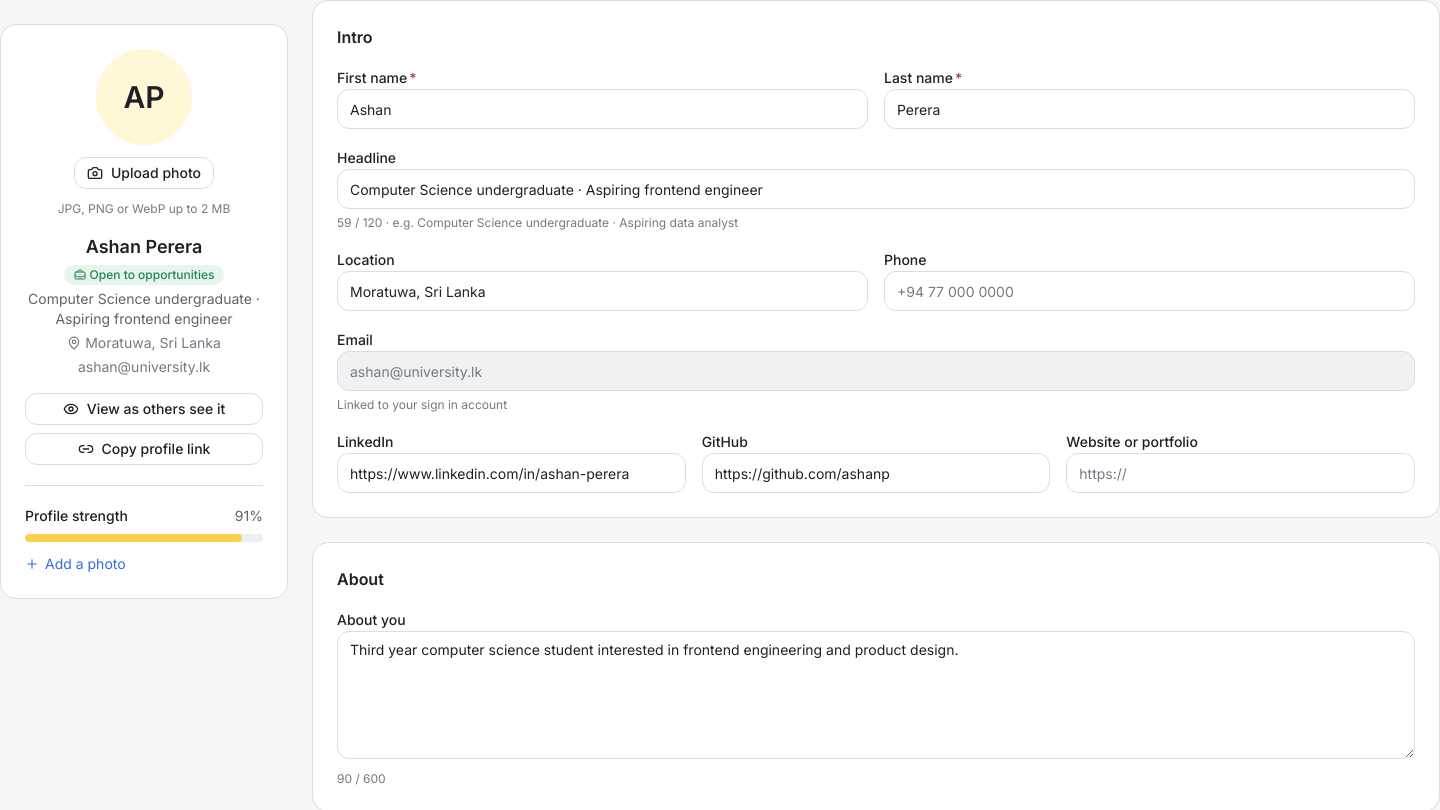
Scenario: StudentProfileForm › shows errors and does not save an invalid form
The image size is (1440, 810).
Clear the field labelled "First name*" at coordinates (602, 109), box [337,89,868,129]
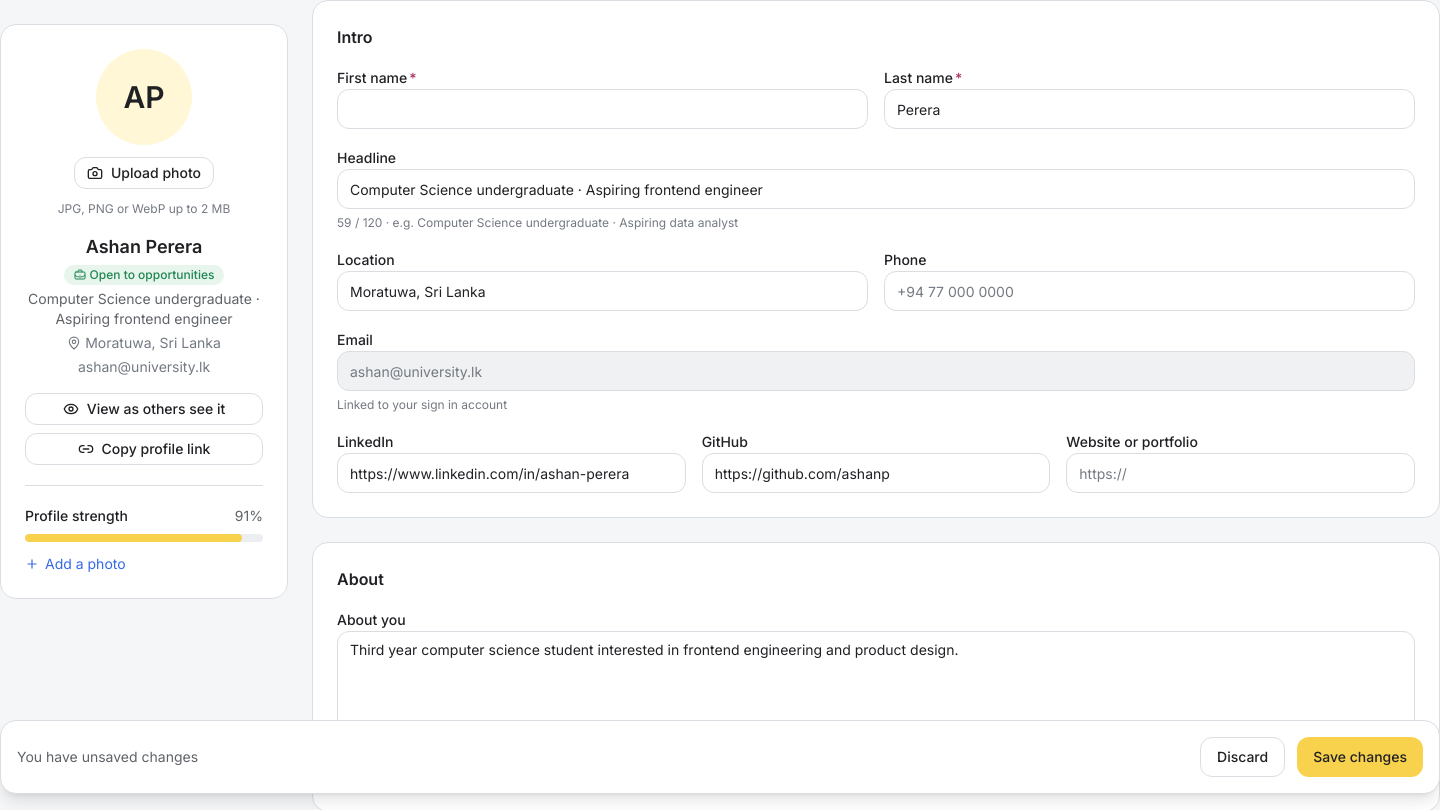
Replace the text in the field labelled "LinkedIn" with "linkedin.com/in/me" at coordinates (511, 473), box [337,453,686,493]
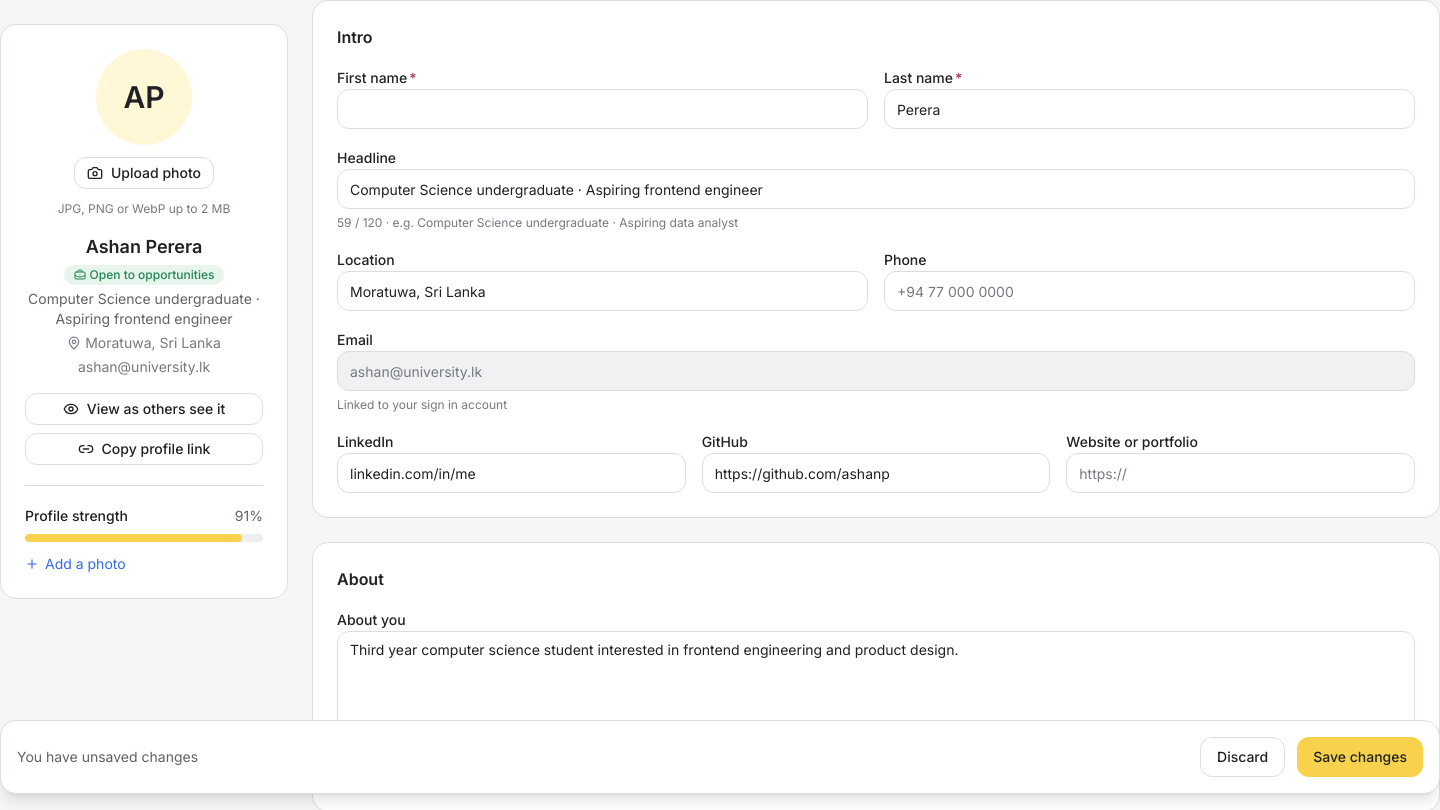
Click the button "Save changes" at coordinates (1360, 757), box [1297,737,1423,777]
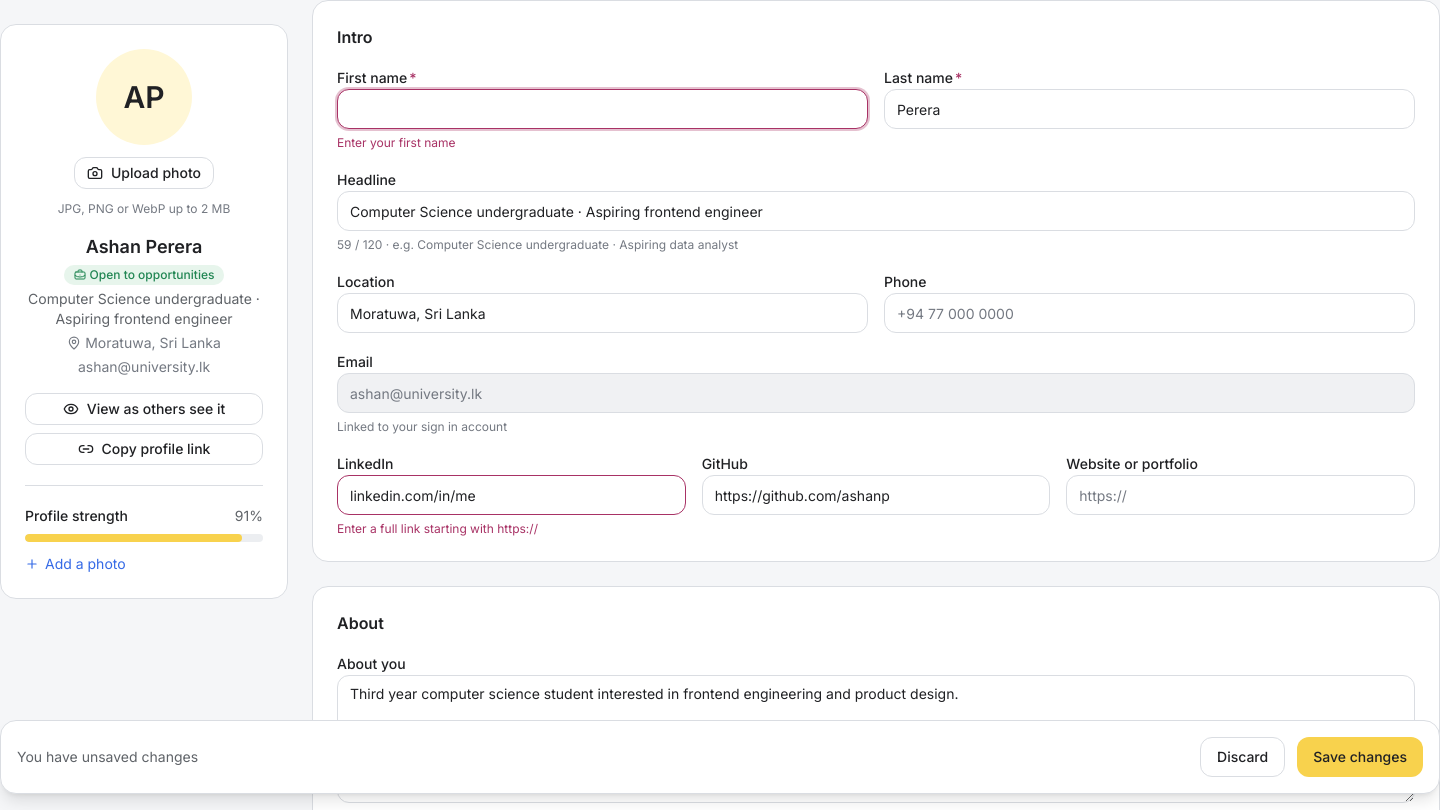
Expected: the text "Enter your first name" is shown, [337,135,456,150]
Expected: the text "Enter a full link starting with https://" is shown, [337,521,538,536]
